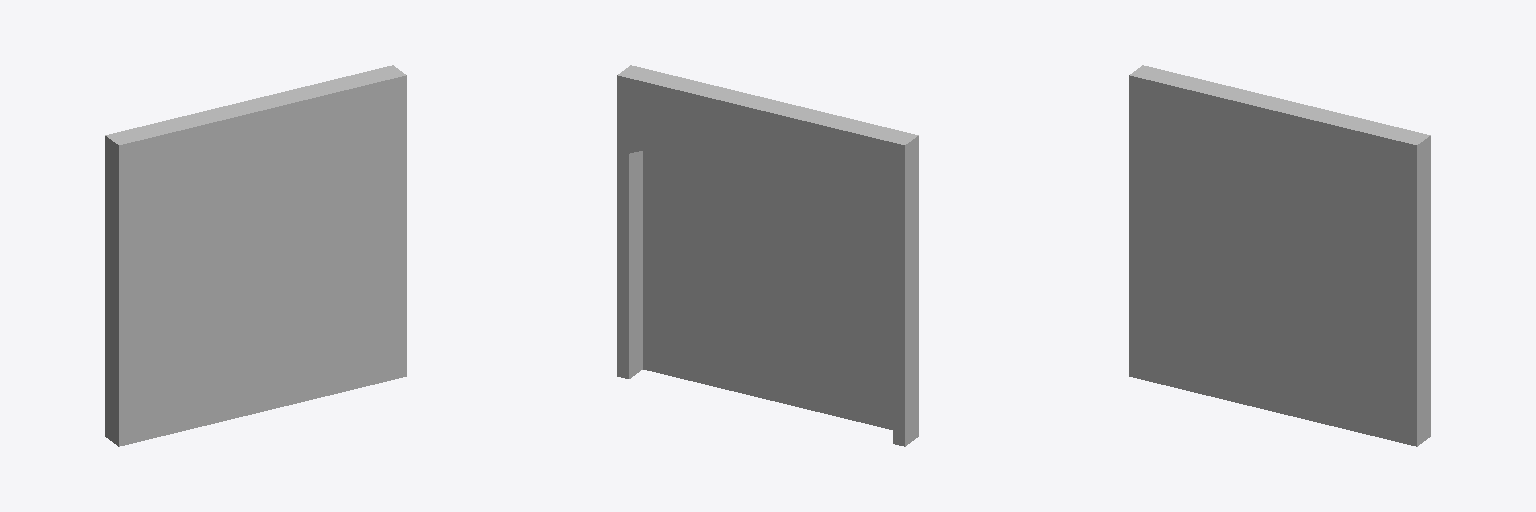
The model's file is GridFoundation_wall_arch_straight.obj.
3 views of the same model, side by side, from view 1: azimuth 30°, elevation 25°; view 2: azimuth 150°, elevation 25°; view 3: azimuth 330°, elevation 25° (orthographic).
Parts seen in each view (by area): view 1: GridFoundation_wall_arch_straight; view 2: GridFoundation_wall_arch_straight; view 3: GridFoundation_wall_arch_straight.
Part boxes in pixels (bbox=[...]): GridFoundation_wall_arch_straight: bbox=[105, 65, 406, 446]; GridFoundation_wall_arch_straight: bbox=[617, 65, 918, 446]; GridFoundation_wall_arch_straight: bbox=[1129, 65, 1430, 446].
Size of the model in its own units: 3 by 3 by 0.25.